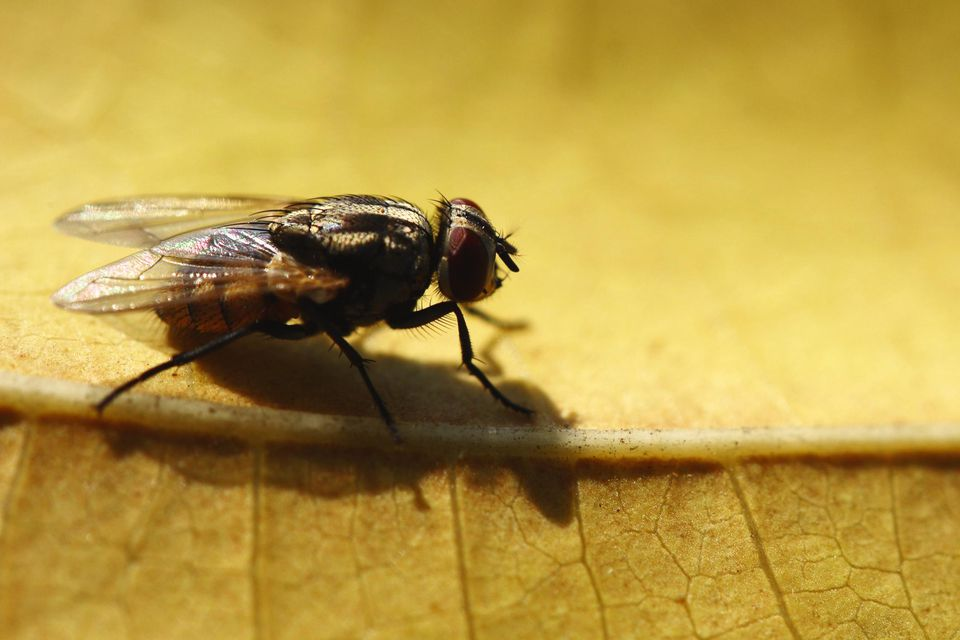green bottles flies: (33, 141, 564, 523)
